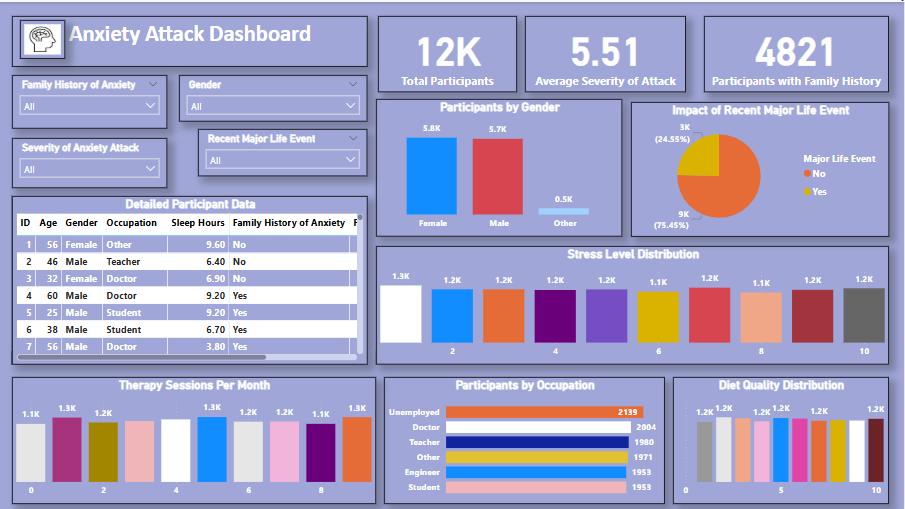

Layout of this report page (visuals, bound fields, positions):
{"tool":"powerbi","page":{"name":"Page 1","canvas":[1280,720],"ordinal":0},"visuals":[{"type":"card","fields":{"Values":["Anxiety_Attack_Dataset.Total Participants"]},"box":[535.9,20.2,196.5,107.5],"z":0},{"type":"card","fields":{"Values":["Anxiety_Attack_Dataset.Average Severity of Attack"]},"box":[744.1,20.2,228.5,107.5],"z":1000},{"type":"card","fields":{"Values":["Anxiety_Attack_Dataset.Participants with Family History"]},"box":[997.8,20.2,262,107.5],"z":2000},{"type":"clusteredColumnChart","title":"Participants by Gender","fields":{"Category":["Anxiety_Attack_Dataset.Gender"],"Y":["Anxiety_Attack_Dataset.Total Participants"]},"box":[532.5,137.7,349.4,194.9],"z":3000},{"type":"clusteredColumnChart","title":"Stress Level Distribution","fields":{"Category":["Anxiety_Attack_Dataset.Stress Level (1-10)"],"Y":["Anxiety_Attack_Dataset.Total Participants"]},"box":[532.5,346,727.3,168],"z":4000},{"type":"clusteredBarChart","title":"Participants by Occupation","fields":{"Category":["Anxiety_Attack_Dataset.Occupation"],"Y":["Anxiety_Attack_Dataset.Total Participants"]},"box":[544.3,530.8,398.1,179.7],"z":5000},{"type":"pieChart","title":"Impact of Recent Major Life Event","fields":{"Category":["Anxiety_Attack_Dataset.Recent Major Life Event"],"Y":["Anxiety_Attack_Dataset.Total Participants"]},"box":[893.6,141.1,366.2,191.5],"z":6000},{"type":"clusteredColumnChart","title":"Diet Quality Distribution","fields":{"Y":["Anxiety_Attack_Dataset.Total Participants"],"Category":["Anxiety_Attack_Dataset.Diet Quality (1-10)"]},"box":[954.1,530.8,305.7,179.7],"z":7000},{"type":"clusteredColumnChart","title":"Therapy Sessions Per Month","fields":{"Category":["Anxiety_Attack_Dataset.Therapy Sessions (per month)"],"Y":["Anxiety_Attack_Dataset.Total Participants"]},"box":[16.8,530.8,515.7,179.7],"z":8000},{"type":"slicer","fields":{"Values":["Anxiety_Attack_Dataset.Gender"]},"box":[253.6,104.1,267.1,65.5],"z":9000},{"type":"slicer","fields":{"Values":["Anxiety_Attack_Dataset.Severity of Anxiety Attack (1-10)"]},"box":[16.8,193.2,220.1,70.6],"z":10000},{"type":"slicer","fields":{"Values":["Anxiety_Attack_Dataset.Family History of Anxiety"]},"box":[16.8,104.1,220.1,75.6],"z":11000},{"type":"slicer","fields":{"Values":["Anxiety_Attack_Dataset.Recent Major Life Event"]},"box":[253.7,192.8,266.5,70.9],"z":12000},{"type":"tableEx","title":"Detailed Participant Data","fields":{"Values":["Anxiety_Attack_Dataset.ID","Anxiety_Attack_Dataset.Age","Anxiety_Attack_Dataset.Gender","Anxiety_Attack_Dataset.Occupation","Anxiety_Attack_Dataset.Sleep Hours","Anxiety_Attack_Dataset.Family History of Anxiety","Anxiety_Attack_Dataset.Physical Activity (hrs/week)"]},"box":[16.8,275.5,503.9,238.5],"z":13000},{"type":"textbox","box":[16.8,20.2,503.9,72.2],"z":14000},{"type":"image","box":[28.6,25.2,63.8,55.4],"z":15000}]}

Visuals, with their boxes in screenshot pixels (x1, y1, x2, y2), scaled from the page's 1280x720 canvas onto the 905x509 screenshot:
card - Anxiety_Attack_Dataset.Total Participants: locate(379, 14, 518, 90)
card - Anxiety_Attack_Dataset.Average Severity of Attack: locate(526, 14, 688, 90)
card - Anxiety_Attack_Dataset.Participants with Family History: locate(705, 14, 891, 90)
"Participants by Gender" clusteredColumnChart: locate(376, 97, 624, 235)
"Stress Level Distribution" clusteredColumnChart: locate(376, 245, 891, 363)
"Participants by Occupation" clusteredBarChart: locate(385, 375, 666, 502)
"Impact of Recent Major Life Event" pieChart: locate(632, 100, 891, 235)
"Diet Quality Distribution" clusteredColumnChart: locate(675, 375, 891, 502)
"Therapy Sessions Per Month" clusteredColumnChart: locate(12, 375, 376, 502)
slicer - Anxiety_Attack_Dataset.Gender: locate(179, 74, 368, 120)
slicer - Anxiety_Attack_Dataset.Severity of Anxiety Attack (1-10): locate(12, 137, 167, 186)
slicer - Anxiety_Attack_Dataset.Family History of Anxiety: locate(12, 74, 167, 127)
slicer - Anxiety_Attack_Dataset.Recent Major Life Event: locate(179, 136, 368, 186)
"Detailed Participant Data" tableEx: locate(12, 195, 368, 363)
textbox: locate(12, 14, 368, 65)
image: locate(20, 18, 65, 57)
